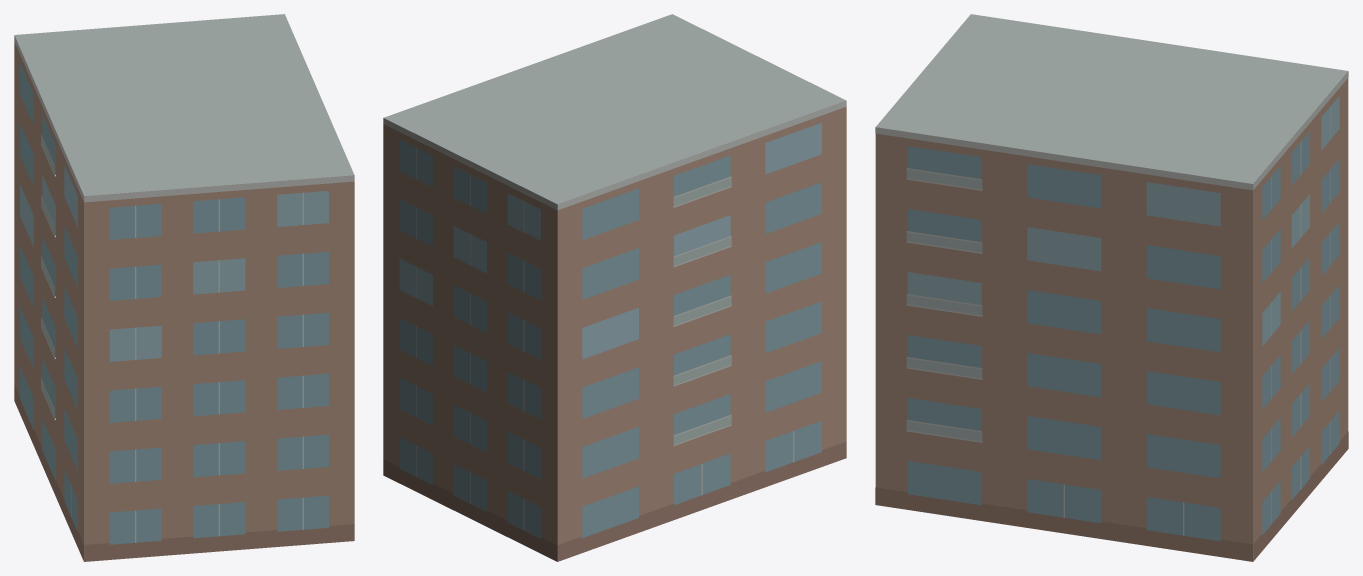
Rendered from survey-upis-32850284.glb.
3 views of the same model, side by side, from view 1: azimuth 30°, elevation 25°; view 2: azimuth 150°, elevation 25°; view 3: azimuth 270°, elevation 25° (orthographic). The views are drawn at different scales.
Visible parts, largest first — view 1: survey-upis-32850284.tmp; view 2: survey-upis-32850284.tmp; view 3: survey-upis-32850284.tmp.
Boxes of the visible parts, x1,y1,x2,y2 form: survey-upis-32850284.tmp: (14, 14, 354, 561); survey-upis-32850284.tmp: (383, 14, 846, 561); survey-upis-32850284.tmp: (875, 14, 1348, 561).
Size of the model in its own units: 13.96 by 14.45 by 16.4.
